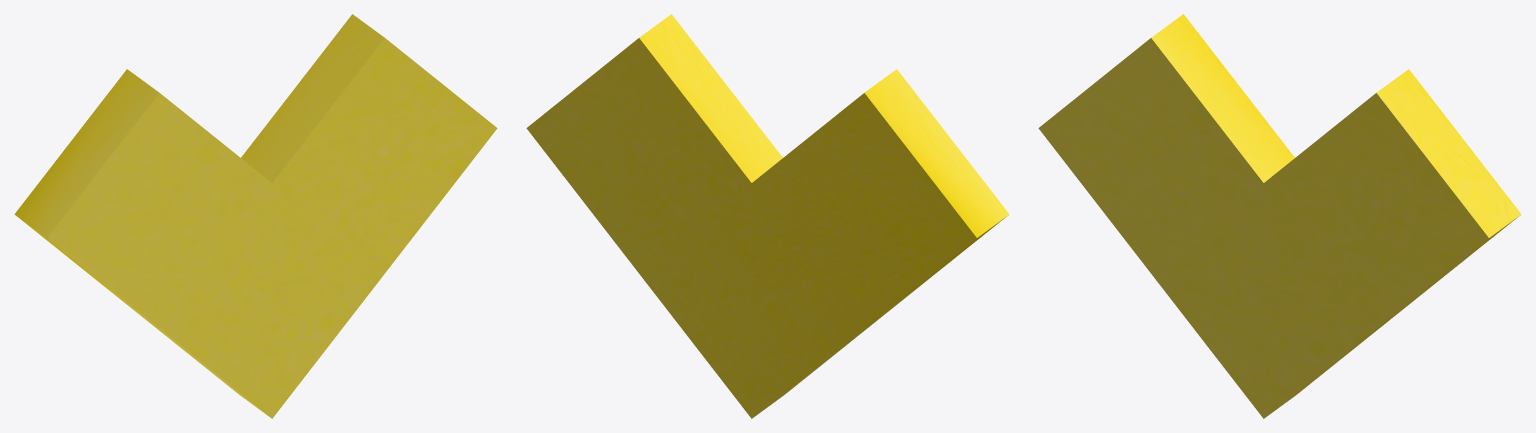
Rendered from Arrow.obj.
The picture shows the model from 3 angles, left to right: view 1: azimuth 30°, elevation 25°; view 2: azimuth 150°, elevation 25°; view 3: azimuth 330°, elevation 25°; orthographic projection.
Visible parts, largest first — view 1: Arrow; view 2: Arrow; view 3: Arrow.
Boxes of the visible parts, <box> form: Arrow: <box>14,14,497,418</box>; Arrow: <box>526,14,1009,418</box>; Arrow: <box>1038,14,1521,418</box>.
Bounding box in the file's own units: 0.3712 × 0.2784 × 0.0464.
1 material, 1 textured.
